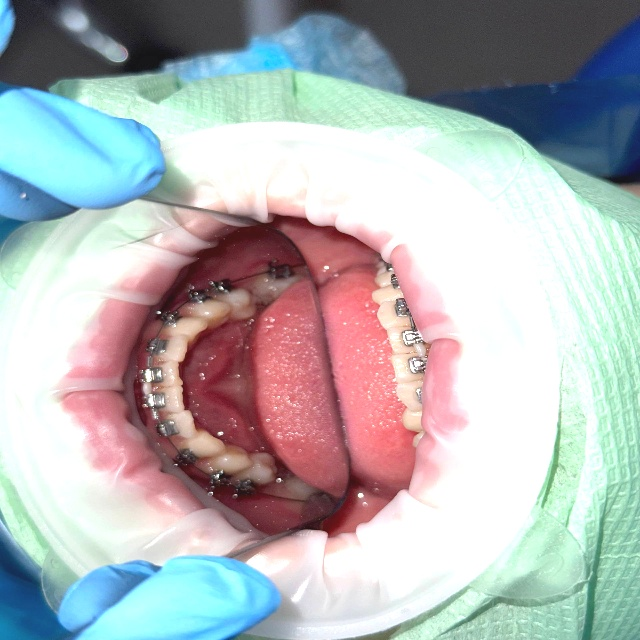clean_tooth: (107, 496, 163, 559), (191, 159, 253, 195), (452, 470, 479, 514)
plaque: (0, 524, 281, 639), (0, 81, 164, 231), (162, 0, 406, 90), (536, 15, 639, 175), (0, 0, 14, 52)
